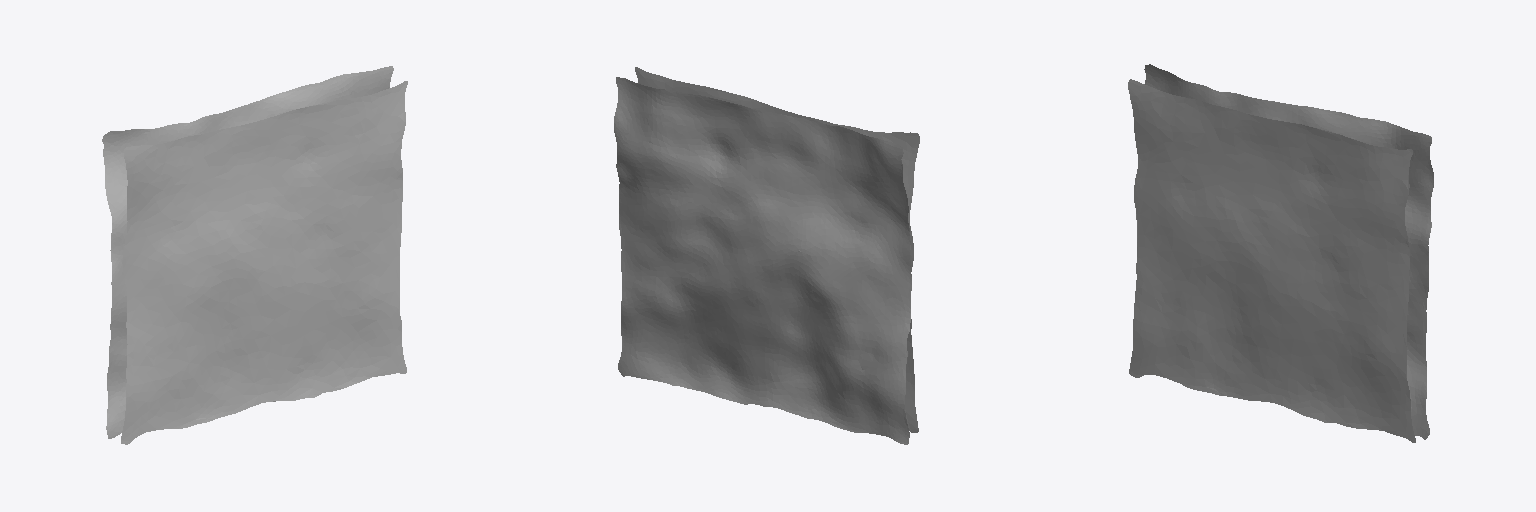
Rendered from slab10k.obj.
The picture shows the model from 3 angles: view 1: azimuth 30°, elevation 25°; view 2: azimuth 150°, elevation 25°; view 3: azimuth 330°, elevation 25°; orthographic projection.
Parts seen in each view (by area): view 1: pasted__plane_1_Mesh1; view 2: pasted__plane_1_Mesh1; view 3: pasted__plane_1_Mesh1.
Part boxes in pixels (x1,y1,x2,y2): pasted__plane_1_Mesh1: (102,66,407,444); pasted__plane_1_Mesh1: (614,67,919,444); pasted__plane_1_Mesh1: (1128,64,1433,442).
Bounding box in the file's own units: 1.97 × 1.96 × 0.2446.